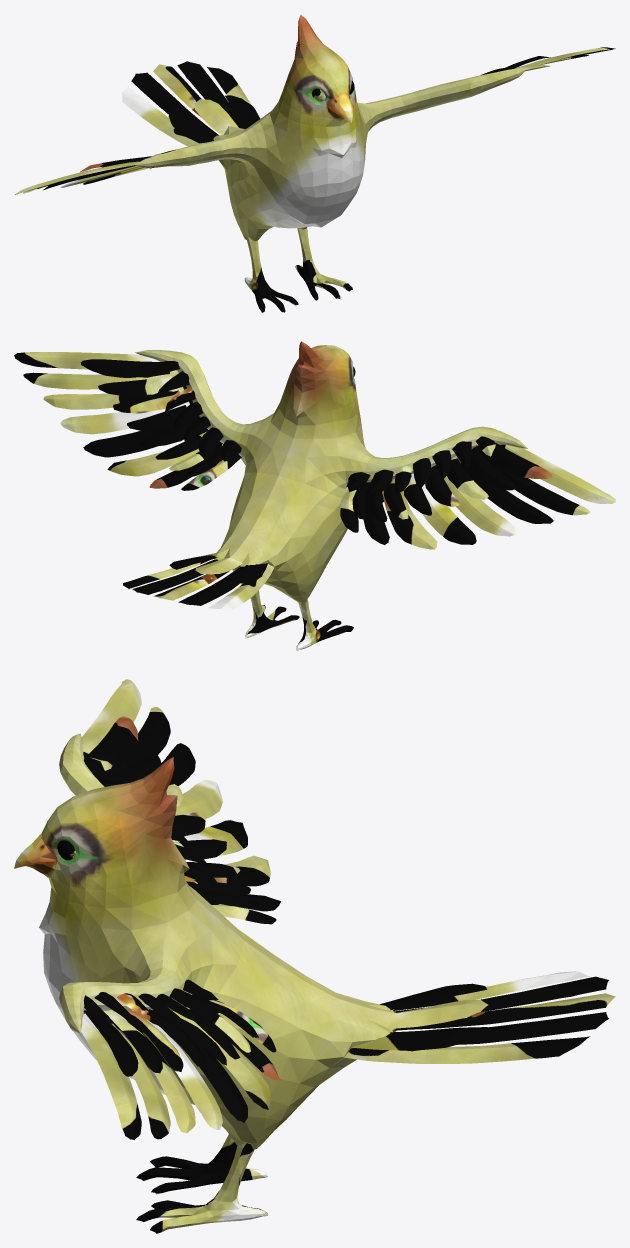
The model's file is bird.obj.
3 views of the same model, one above another, from view 1: azimuth 30°, elevation 25°; view 2: azimuth 150°, elevation 25°; view 3: azimuth 270°, elevation 25° (orthographic). The views are drawn at different scales.
Parts seen in each view (by area): view 1: Group2, Group1, Group16892; view 2: Group1, Group2, Group16892; view 3: Group2, Group1, Group16892.
Boxes of the visible parts, x1,y1,x2,y2 form: Group2: (134, 14, 526, 241); Group1: (15, 47, 615, 194); Group16892: (244, 227, 352, 312); Group1: (14, 352, 615, 609); Group2: (135, 341, 527, 604); Group16892: (245, 590, 353, 650); Group2: (14, 733, 397, 1149); Group1: (81, 679, 615, 1139); Group16892: (136, 1134, 268, 1233).
Bounding box in the file's own units: 22.09 × 9.99 × 12.24.
Materials: 1 (1 with a texture image).
